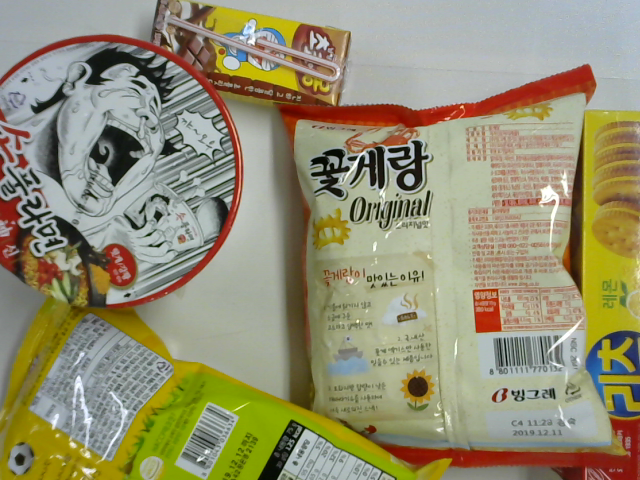Banana_Kick: (1, 282, 480, 478)
Choco_E_Mong: (144, 1, 354, 113)
Crabrang: (283, 107, 583, 446)
Hejangpul: (1, 39, 223, 298)
Ritz_Remon_96g: (572, 108, 640, 477)
